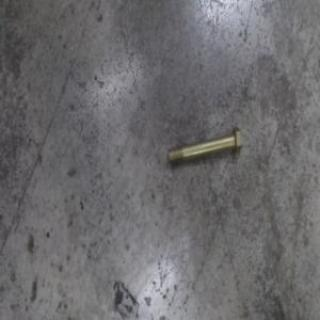Bolttrack_idkeyframe: (166, 124, 241, 167)
